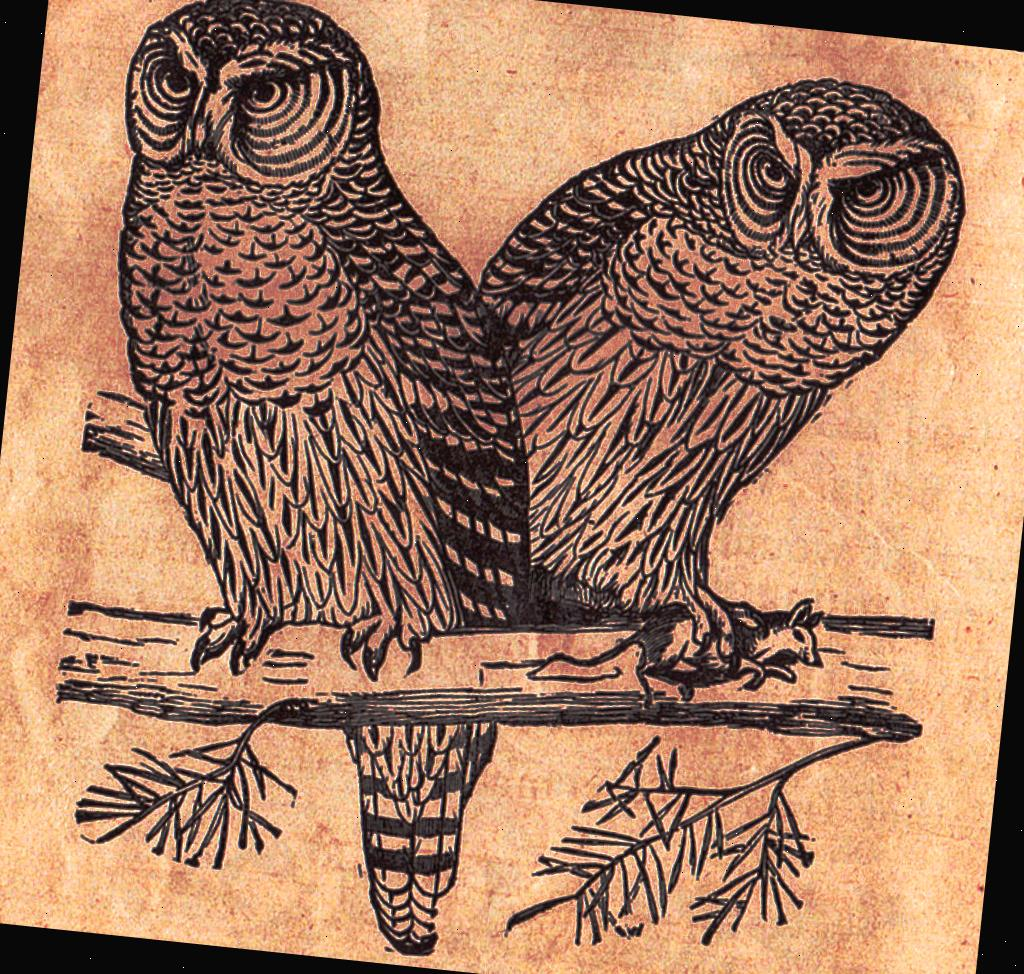Owl: (34, 0, 585, 964), (443, 28, 986, 639)
